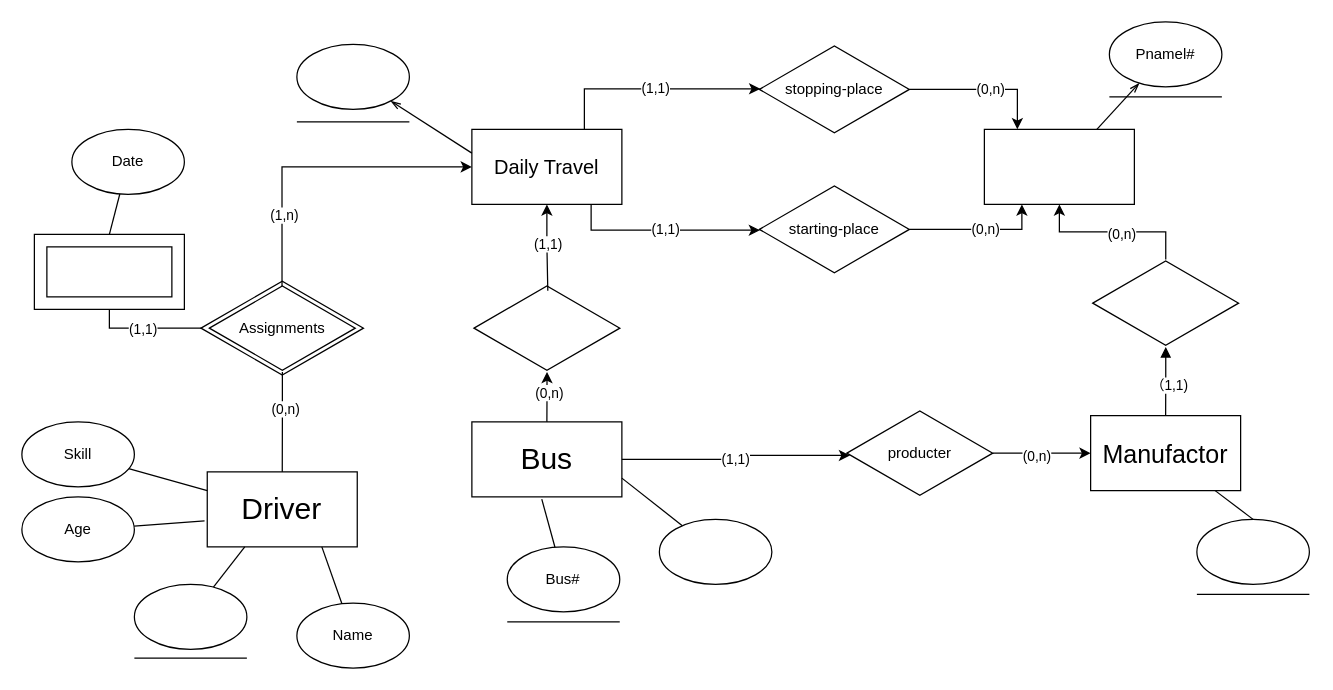
Image size: 1333x690. Some labels were removed from this diagram. The box of each missing label's shape, as (x1, y1, x2, y2) in pixels:
Assignment: (46, 246, 172, 297)
Capability: (658, 518, 772, 584)
Driver-Id#: (133, 583, 247, 649)
locate: (1092, 258, 1239, 347)
Manufactor_Id#: (1196, 518, 1309, 584)
Place: (983, 128, 1134, 204)
Schedule: (473, 283, 620, 372)
Travel#: (296, 43, 409, 109)
